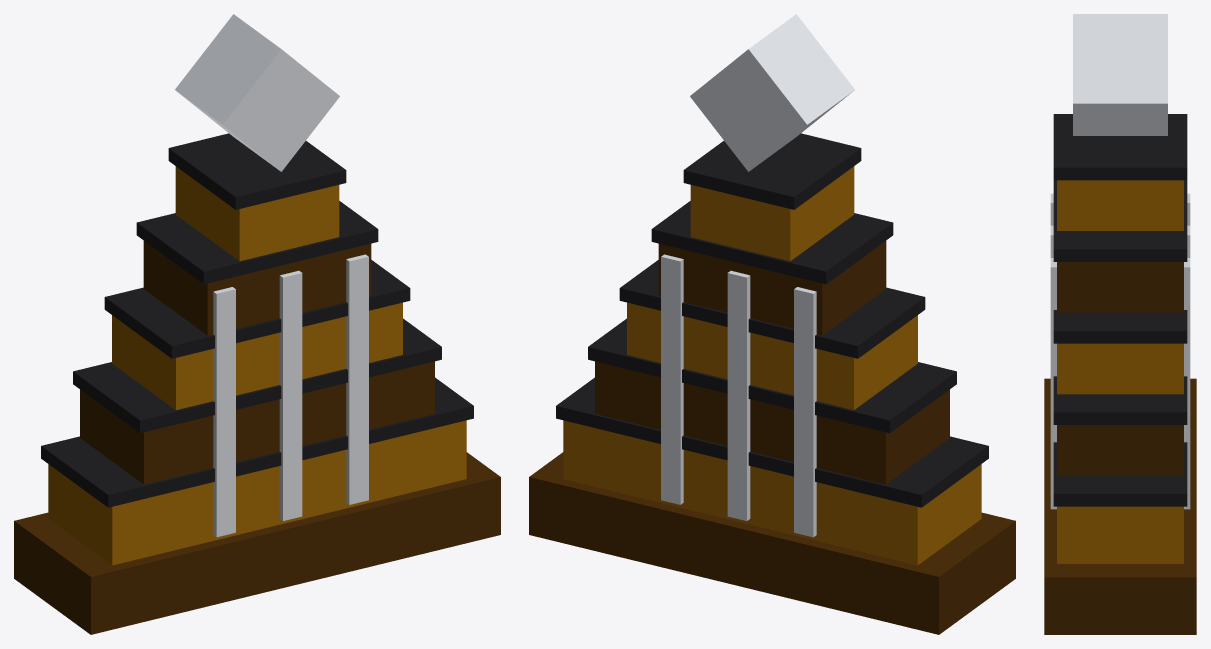
Rendered from GoldOnLadder.fbx.
The picture shows the model from 3 angles, left to right: view 1: azimuth 30°, elevation 25°; view 2: azimuth 150°, elevation 25°; view 3: azimuth 270°, elevation 25°; orthographic projection.
Visible parts, largest first — view 1: GoldOnLadder; view 2: GoldOnLadder; view 3: GoldOnLadder.
Boxes of the visible parts, x1,y1,x2,y2 form: GoldOnLadder: [14, 14, 500, 634]; GoldOnLadder: [529, 14, 1015, 634]; GoldOnLadder: [1044, 14, 1196, 634].
Size of the model in its own units: 74 by 90.61 by 24.
